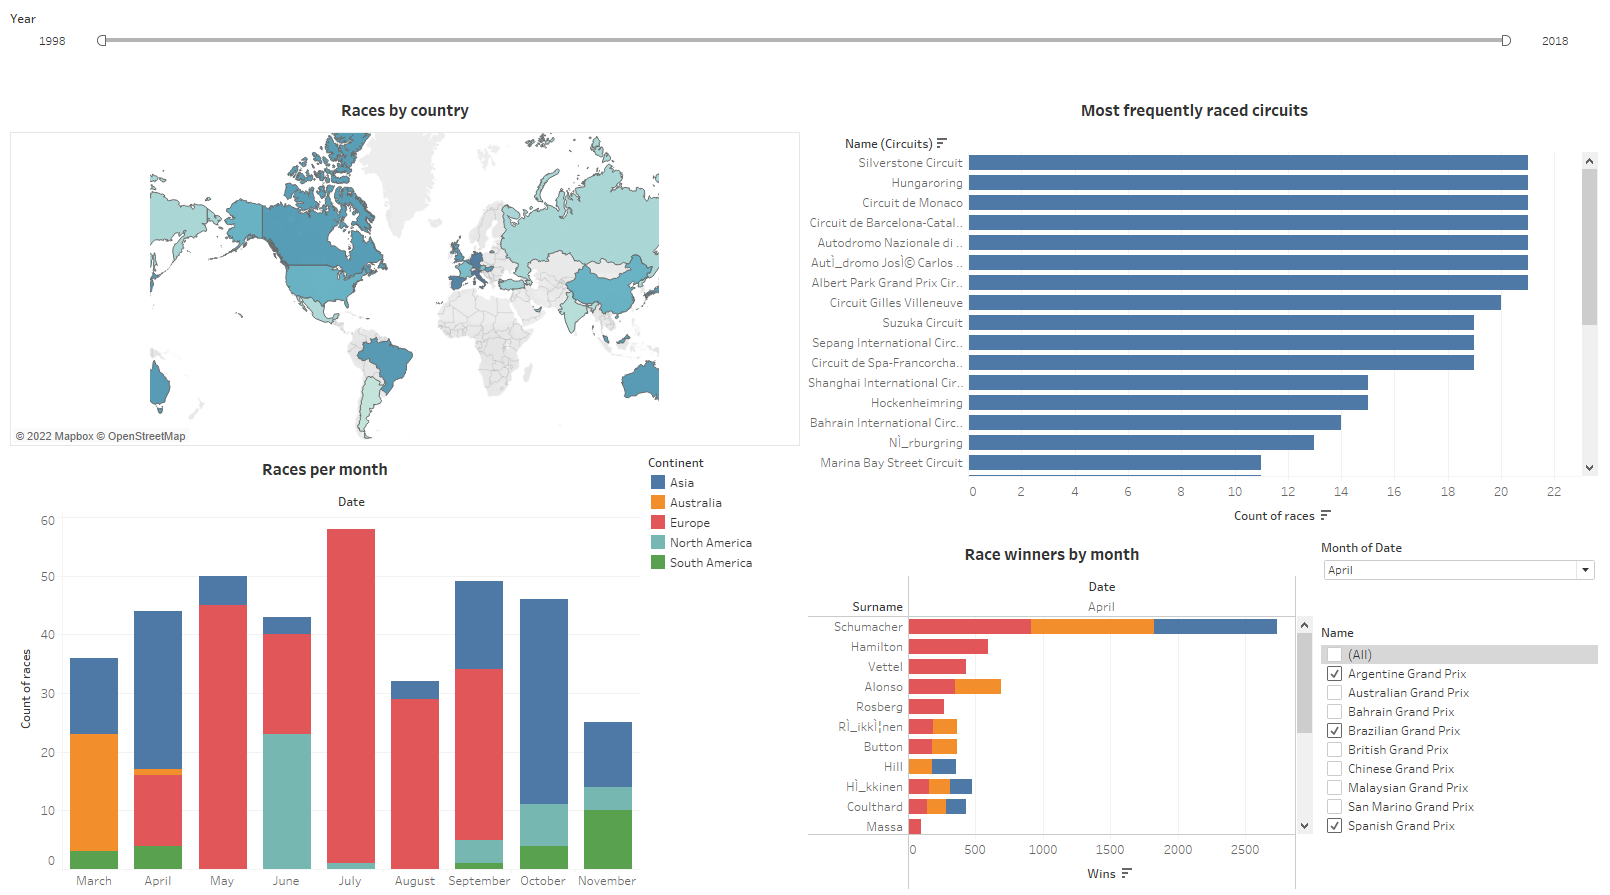

What the dashboard file says about the page in this screenshot:
{"tool":"tableau","page":{"name":"Races Overview","canvas":[1000,1000],"units":"permille","ordinal":4},"visuals":[{"type":"filter","title":"Race winners by month","param":"[federated.1dxn3xd1m3a6sv19biwc20t9l485].[none:year:qk]","box":[5.1,8.8,989.8,94]},{"type":"worksheet","title":"Race by country","mark":"Multipolygon","box":[5.1,102.8,494.9,397.2]},{"type":"worksheet","title":"Most frequently raced circuits","mark":"Automatic","rows":["name (circuits)"],"cols":["races_E0669E317AAB4FC28C13AFFE63FB9220"],"box":[500,102.8,494.9,491.2]},{"type":"worksheet","title":"Races per month","mark":"Bar","rows":["races_E0669E317AAB4FC28C13AFFE63FB9220"],"cols":["date"],"box":[5.1,500,393.3,491.2]},{"type":"legend","title":"Races per month","param":"[federated.1dxn3xd1m3a6sv19biwc20t9l485].[Continent]","box":[398.4,500,101.7,139.4]},{"type":"worksheet","title":"Race winners by month","mark":"Bar","rows":["surname"],"cols":["date","wins"],"box":[500,594,317.9,397.2]},{"type":"filter","title":"Race winners by month","param":"[federated.1dxn3xd1m3a6sv19biwc20t9l485].[mn:date:ok]","box":[817.9,594,177.1,94]},{"type":"filter","title":"Race winners by month","param":"[federated.1dxn3xd1m3a6sv19biwc20t9l485].[none:name:nk]","box":[817.9,687.9,177.1,303.2]}]}

Visuals, with their boxes on the dashboard's canvas, which has no fixed pixel size, in thousandths of its width and height (x1, y1, x2, y2). These are canvas units, not pixel positions in the 1610x895 screenshot, which may show the page scaled, cropped or inside an application window:
"Race winners by month" filter: box=[5, 9, 995, 103]
"Race by country" worksheet (Multipolygon marks): box=[5, 103, 500, 500]
"Most frequently raced circuits" worksheet: box=[500, 103, 995, 594]
"Races per month" worksheet (Bar marks): box=[5, 500, 398, 991]
"Races per month" legend: box=[398, 500, 500, 639]
"Race winners by month" worksheet (Bar marks): box=[500, 594, 818, 991]
"Race winners by month" filter: box=[818, 594, 995, 688]
"Race winners by month" filter: box=[818, 688, 995, 991]
